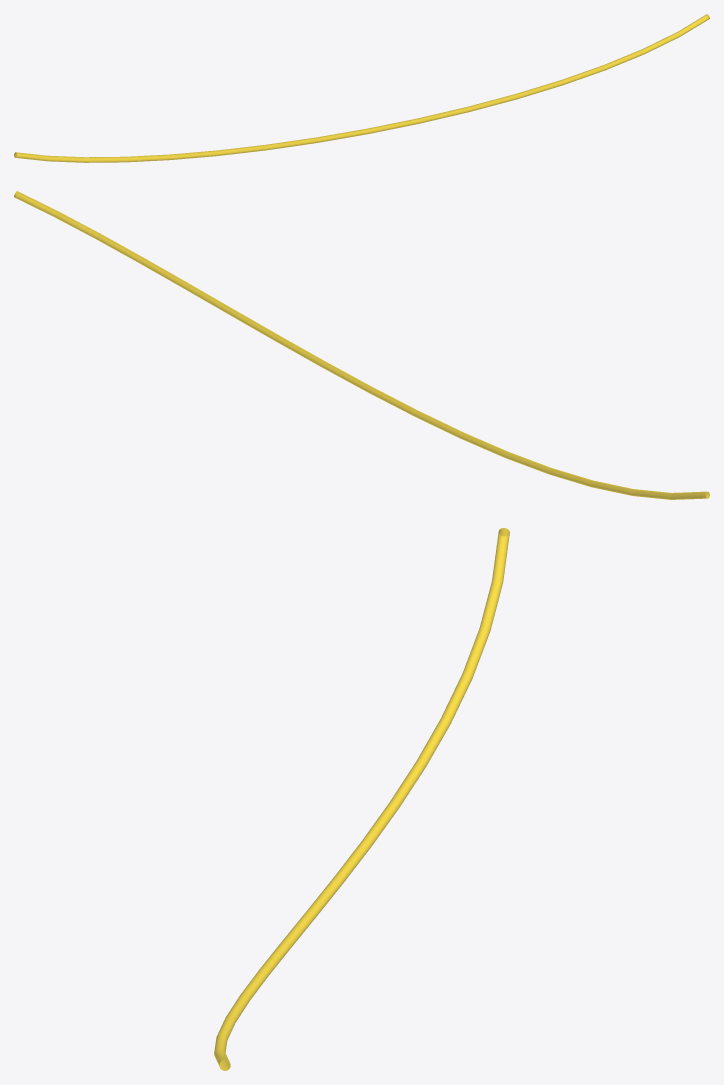
Rendered from Event_419990632_track_61.fbx.
3 renders of one model, top to bottom at view 1: azimuth 30°, elevation 25°; view 2: azimuth 150°, elevation 25°; view 3: azimuth 270°, elevation 25°, orthographic. The views are drawn at different scales.
Visible parts, largest first — view 1: Model; view 2: Model; view 3: Model.
Boxes of the visible parts, <box> form: Model: <box>14,14,709,162</box>; Model: <box>14,191,709,499</box>; Model: <box>214,528,509,1070</box>.
Size of the model in its own units: 5.09 by 0.5442 by 1.04.
